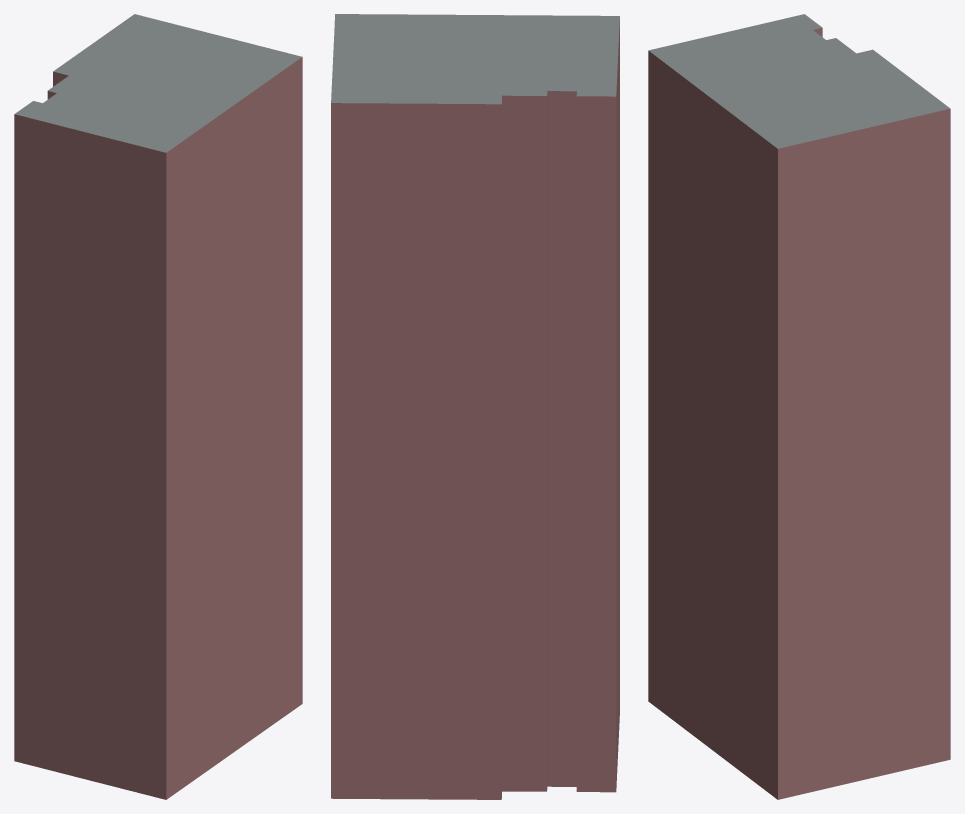
The model's file is nyc-1014485-0.glb.
The picture shows the model from 3 angles, left to right: view 1: azimuth 30°, elevation 25°; view 2: azimuth 150°, elevation 25°; view 3: azimuth 270°, elevation 25°; orthographic projection. The views are drawn at different scales.
Parts seen in each view (by area): view 1: nyc-1014485-0; view 2: nyc-1014485-0; view 3: nyc-1014485-0.
Part boxes in pixels (box(x1,y1,x2,y2)): nyc-1014485-0: box(14, 14, 302, 799); nyc-1014485-0: box(331, 14, 619, 799); nyc-1014485-0: box(648, 14, 950, 799).
Bounding box in the file's own units: 53.3 × 120 × 50.46.
